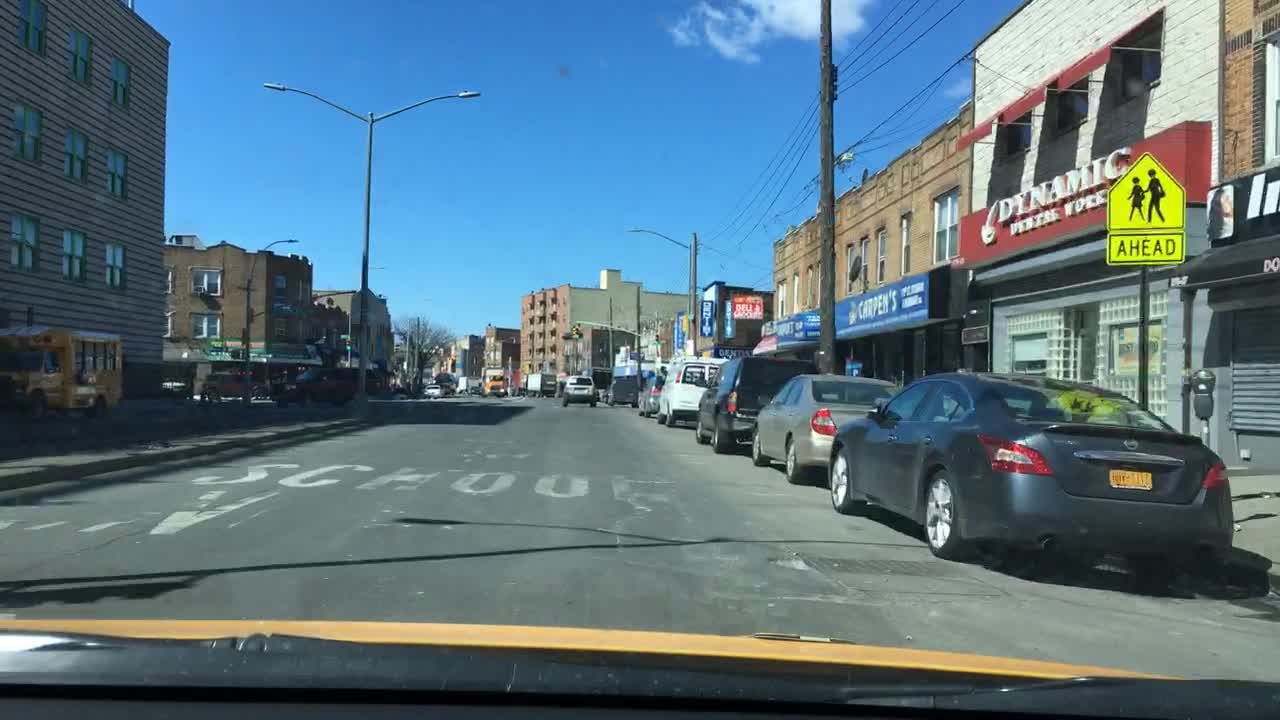bus: (0, 319, 126, 419)
car: (826, 369, 1235, 581), (751, 373, 899, 484), (694, 355, 818, 453), (657, 355, 728, 427), (272, 366, 386, 406), (638, 373, 670, 416), (201, 371, 251, 395), (562, 373, 597, 407), (606, 376, 638, 407), (525, 370, 558, 398), (482, 379, 505, 395), (424, 381, 440, 396), (442, 381, 457, 395), (468, 385, 482, 398)
traffic light: (246, 305, 255, 323), (652, 332, 661, 346), (575, 321, 582, 338), (570, 324, 576, 340), (344, 334, 349, 349)
traffic sign: (1104, 150, 1188, 270)
truck: (457, 378, 480, 389)
